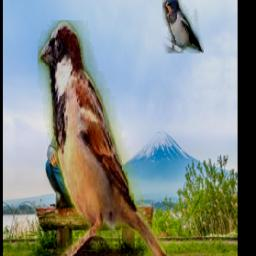Sparrow: (38, 21, 166, 256)
Swallow: (163, 0, 205, 53)
